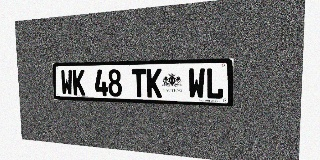4: (94, 69, 108, 96)
8: (108, 69, 122, 97)
K: (146, 68, 162, 98), (72, 70, 85, 96)
L: (206, 68, 224, 99)
T: (131, 69, 146, 97)
W: (188, 68, 205, 99), (60, 70, 73, 95)
